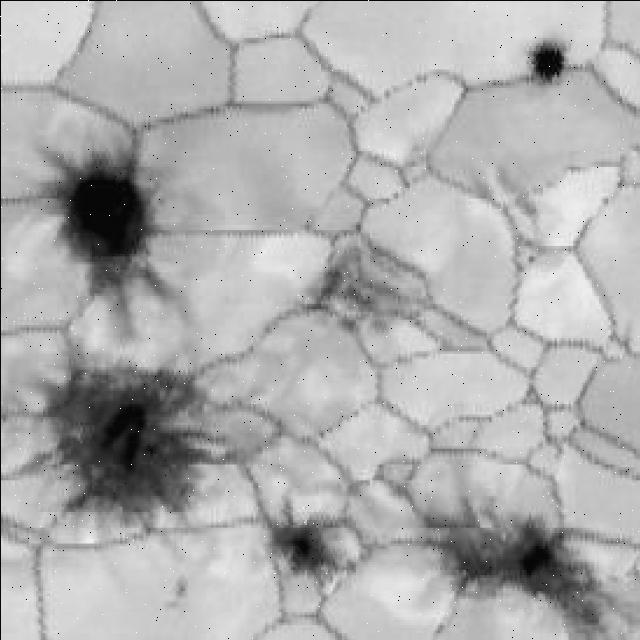good_void: (31, 321, 239, 540), (419, 494, 617, 640), (35, 132, 171, 338), (265, 491, 356, 593), (303, 247, 410, 330), (527, 34, 568, 85), (176, 574, 188, 595), (526, 253, 536, 264)
